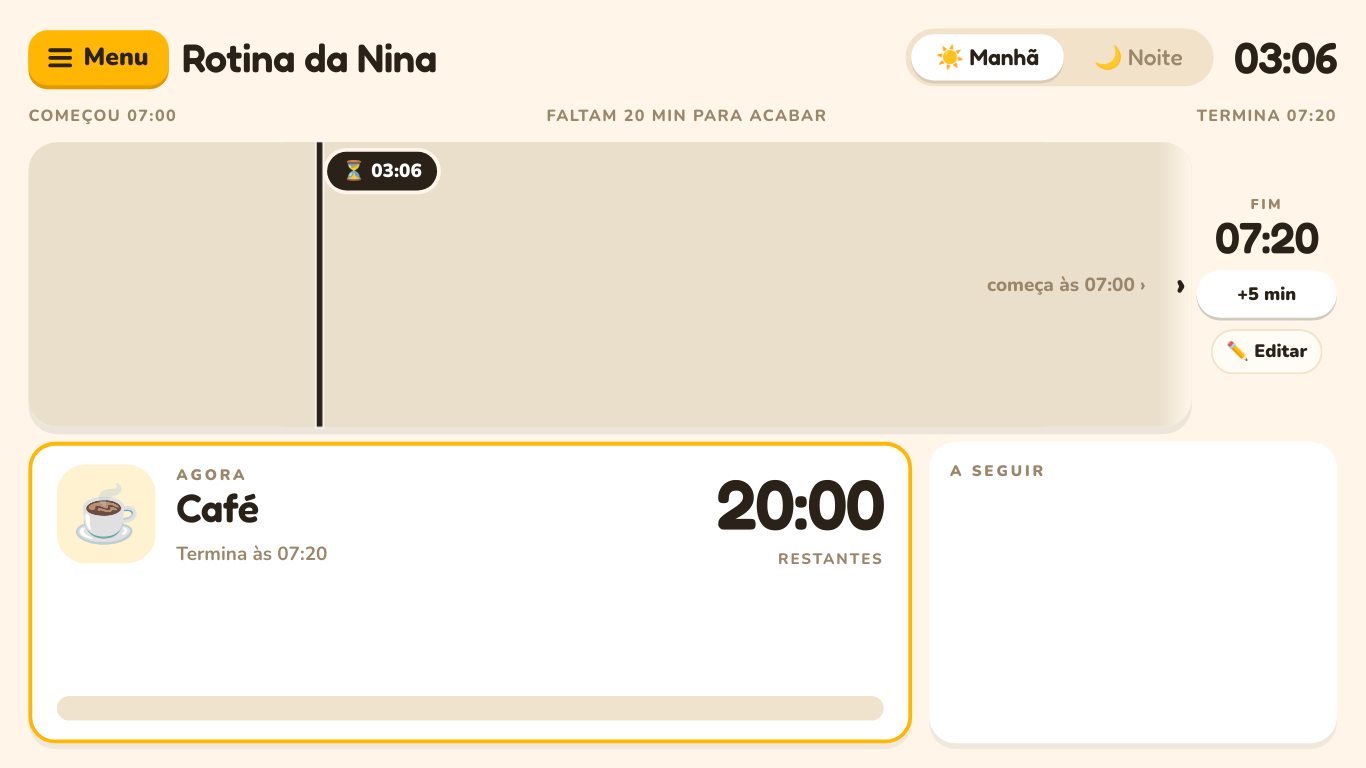
real editor Editar esta rotina keeps draft and storage intact while an update waits
The image size is (1366, 768).
Click the button with aria-label "Menu dos pais".
click(99, 57)  # box [29, 30, 169, 85]
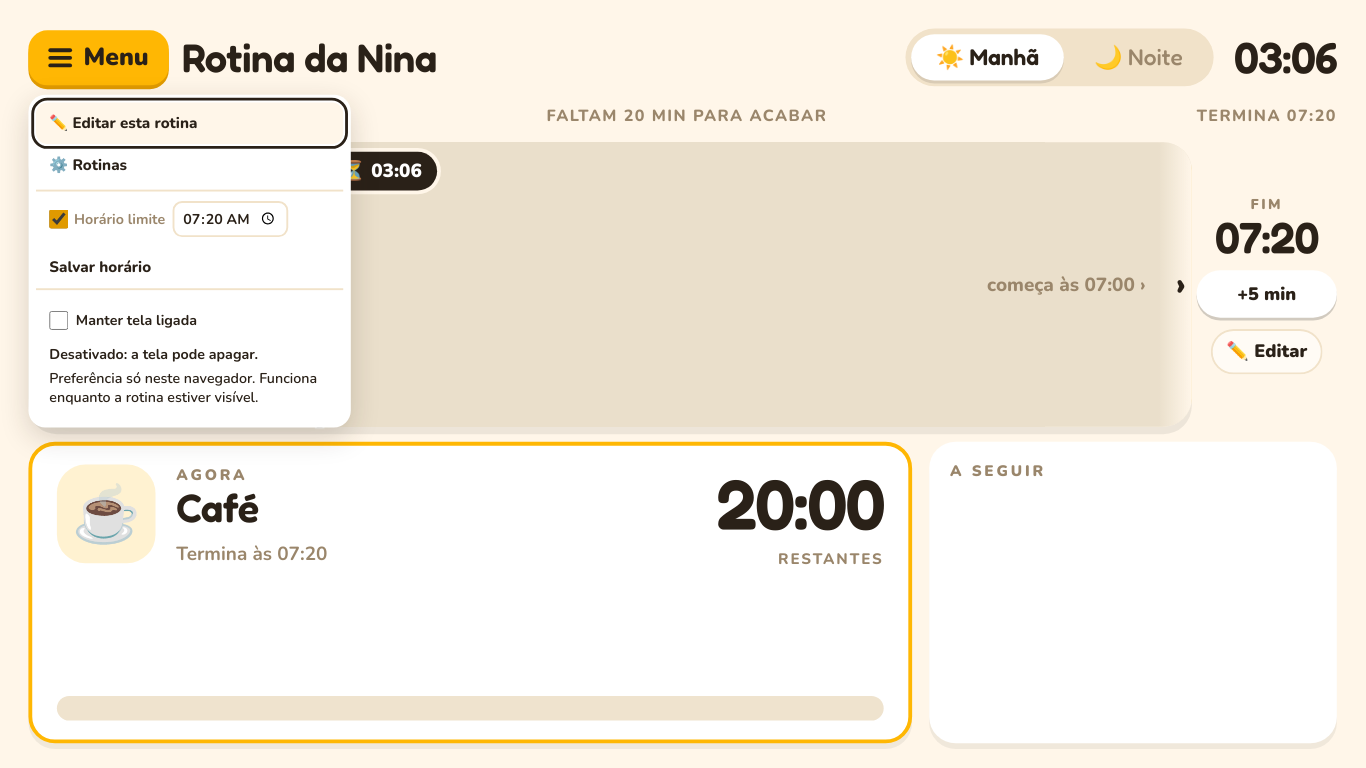
Click the button "✏️ Editar esta rotina".
click(190, 123)  # box [36, 102, 344, 144]
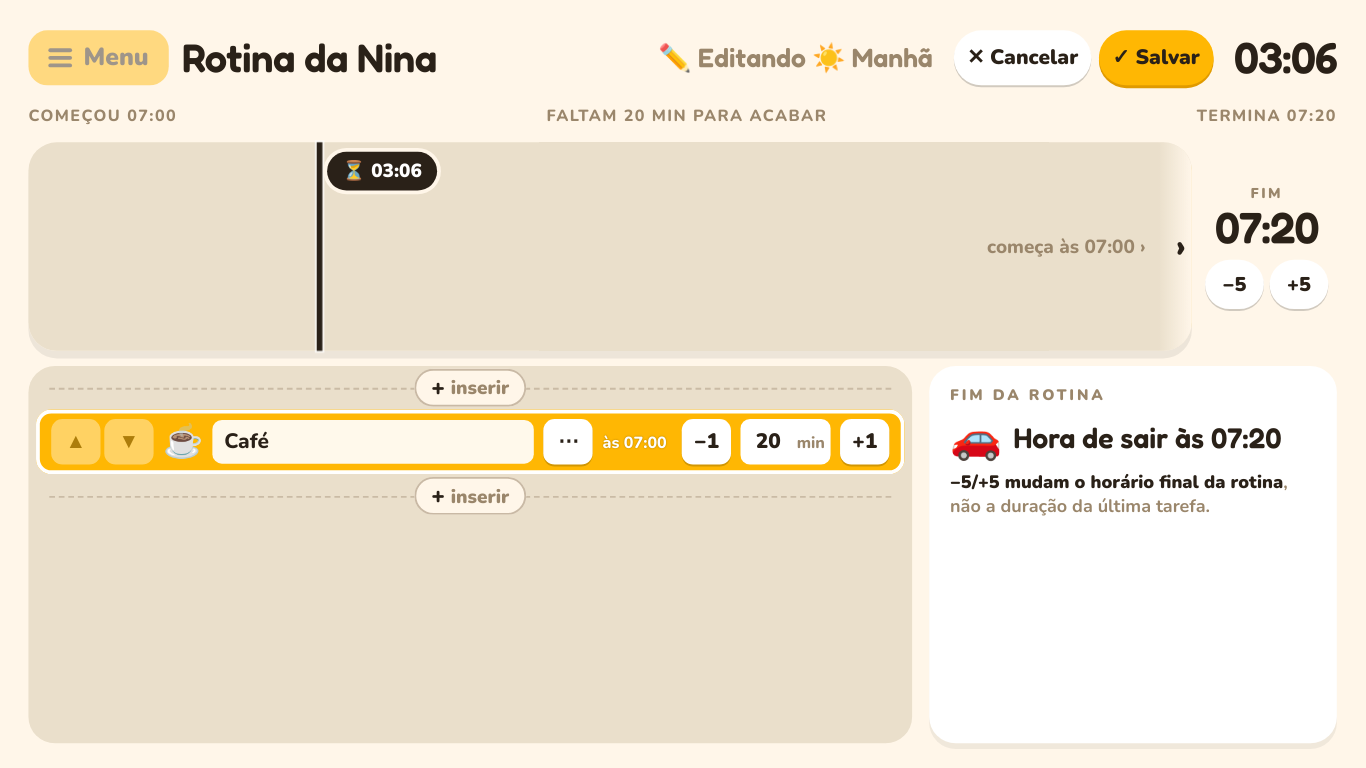
Replace the text in the field showing "Café" with "Café editado" at (374, 442), box [213, 420, 534, 464]
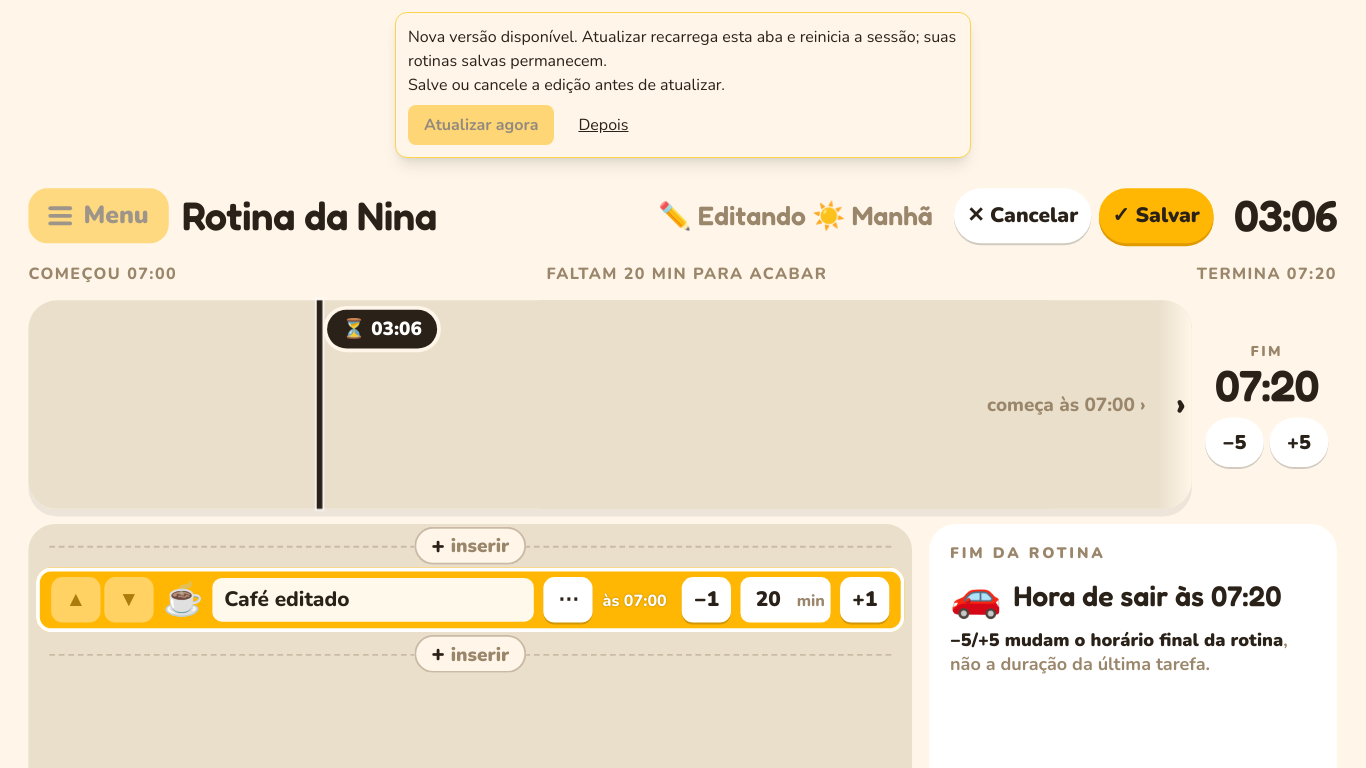
Expected: the button "Atualizar agora" is disabled, [408, 105, 554, 145]
Click the button "✓ Salvar".
click(1156, 215)  # box [1099, 188, 1214, 243]
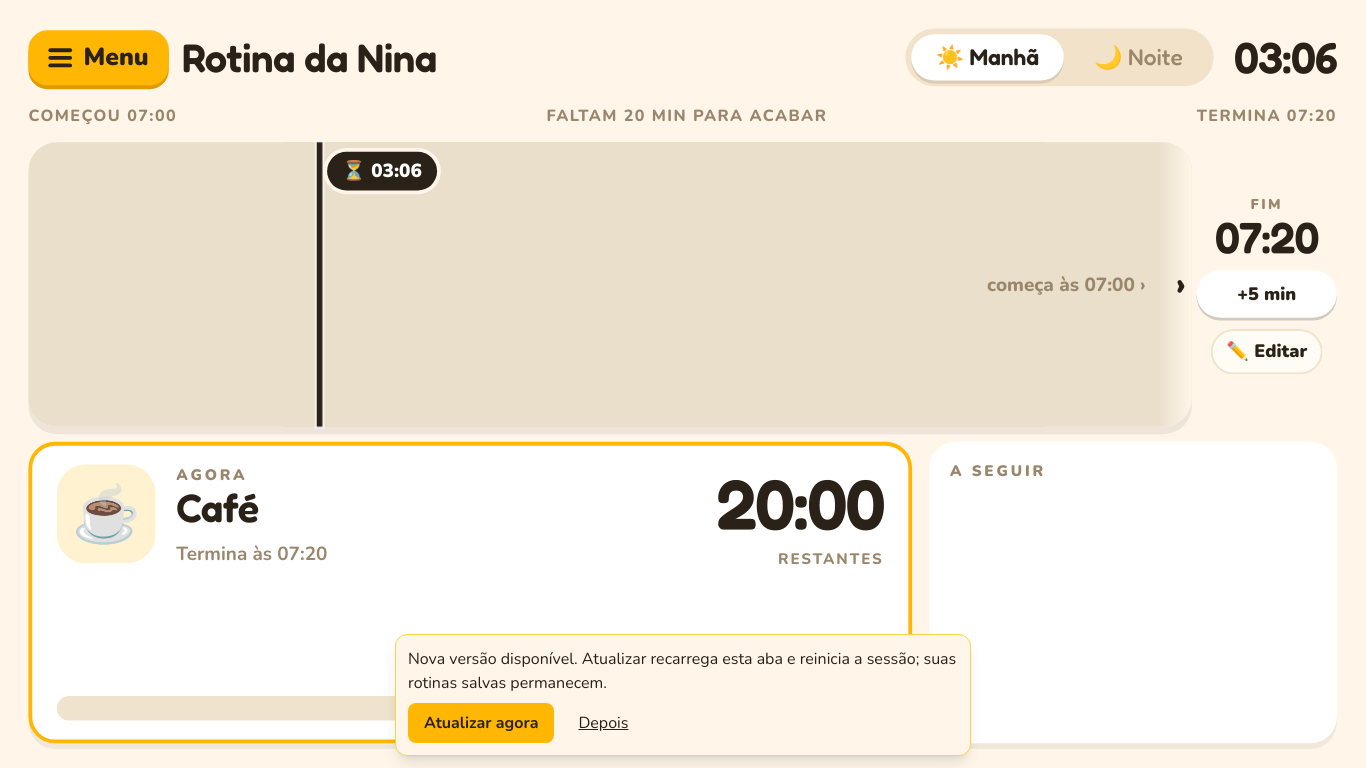
Expected: the button "Atualizar agora" is enabled, [408, 703, 554, 743]
